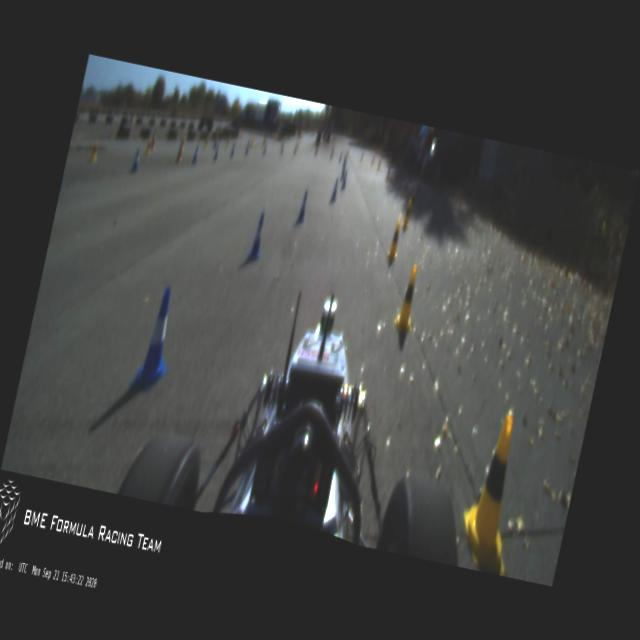blue_cone: (132, 284, 183, 392), (244, 209, 270, 263), (294, 188, 310, 225), (131, 148, 142, 172), (329, 178, 339, 204), (211, 138, 221, 164), (190, 142, 201, 164), (339, 169, 349, 190), (228, 140, 236, 158), (243, 138, 251, 154), (341, 160, 346, 176), (342, 153, 347, 167), (262, 144, 268, 154), (292, 142, 296, 154), (338, 152, 342, 162), (330, 146, 334, 156), (280, 143, 284, 153), (314, 144, 318, 154)
large_orange_cone: (176, 135, 187, 161), (150, 124, 159, 150)
orange_cone: (212, 129, 220, 148), (203, 132, 210, 148), (224, 133, 229, 149), (250, 134, 254, 148), (273, 130, 278, 141), (262, 136, 266, 148)
yellow_cone: (452, 408, 538, 576), (392, 262, 424, 334), (385, 218, 405, 260), (400, 197, 414, 229), (88, 137, 100, 164), (144, 136, 154, 156), (409, 188, 416, 208), (384, 166, 392, 182), (376, 158, 382, 172), (404, 178, 408, 194), (359, 151, 364, 161), (370, 154, 374, 164)
